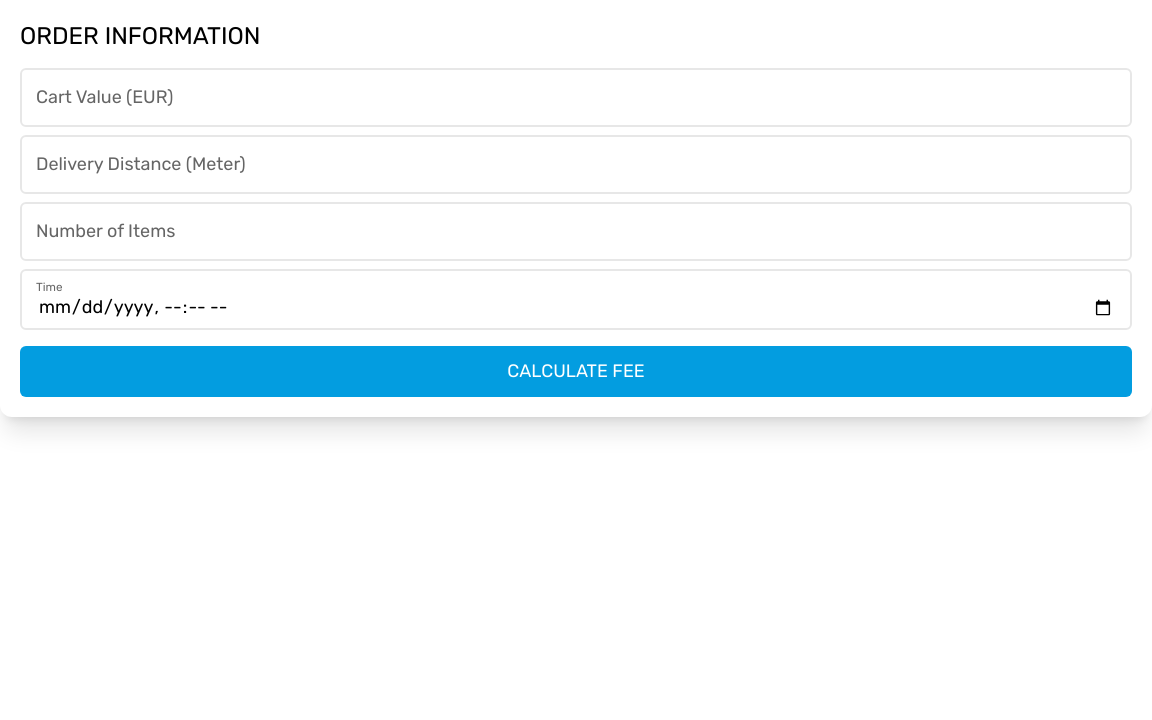
OrderDetailsForm Component › displays validation errors for empty fields
The image size is (1152, 720).
Click the button "CALCULATE FEE": (576, 372) [20,346,1132,397]
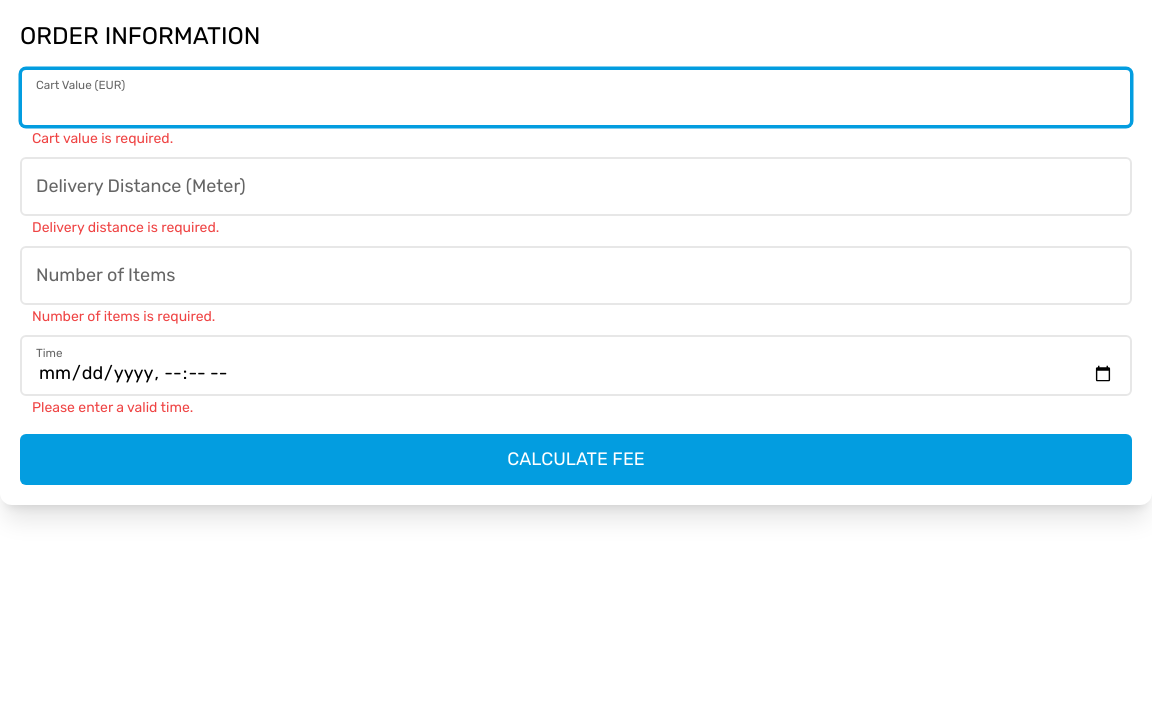
Result: the text "Cart value is required." is shown at [32,130,173,147]
Result: the text "Delivery distance is required." is shown at [32,219,219,236]
Result: the text "Number of items is required." is shown at [32,308,215,325]
